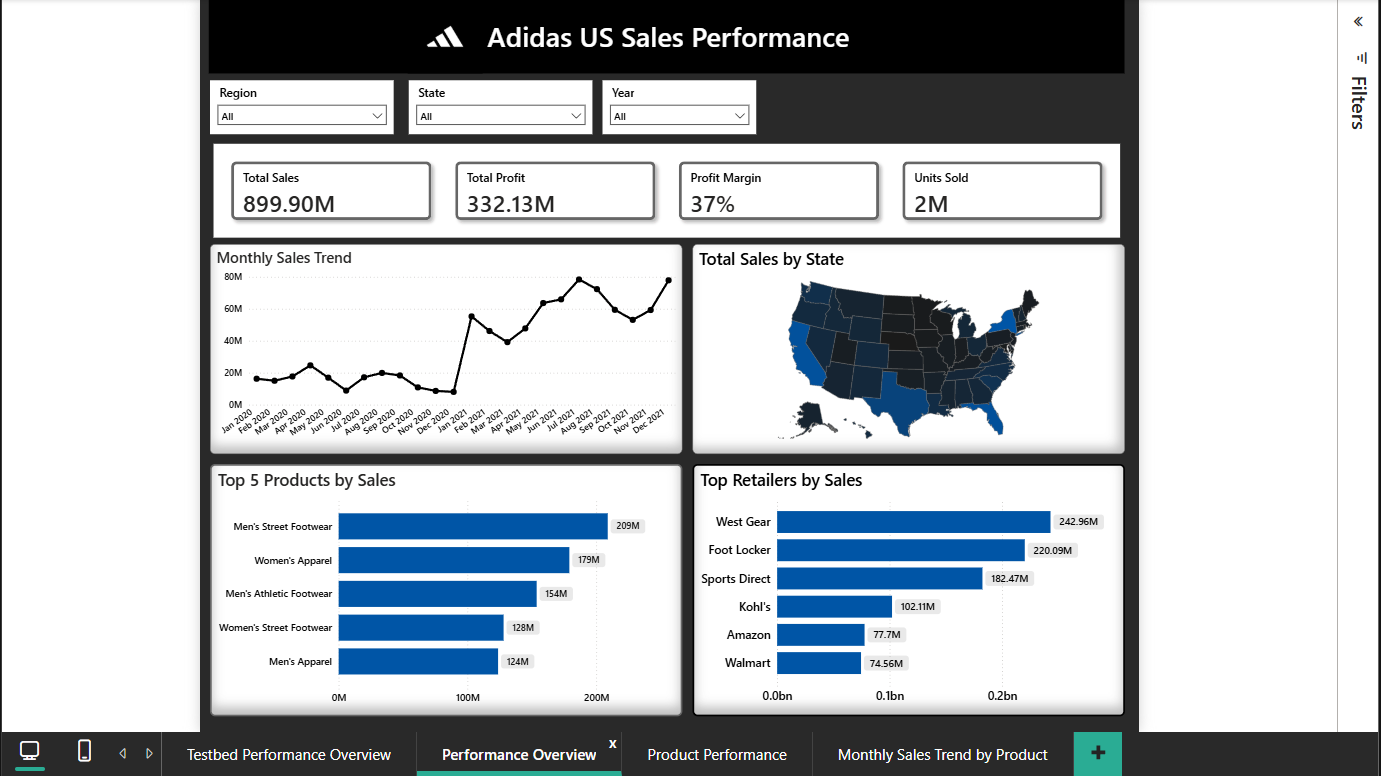

What the dashboard file says about the page in this screenshot:
{"tool":"powerbi","page":{"name":" Performance Overview","canvas":[1280,1000],"ordinal":1},"visuals":[{"type":"cardVisual","fields":{"Data":["Sales Calculation.Total Sales","Sales Calculation.Total Profit","Sales Calculation.Profit Margin%","Sales Calculation.Unit Sold"]},"box":[13.6,192.6,1249.2,138],"z":0},{"type":"shape","box":[12.7,0,1248.5,101.5],"z":1000},{"type":"textbox","box":[373.3,19.9,530.9,61.6],"z":2000},{"type":"image","box":[132.3,0,402.3,101.5],"z":3000},{"type":"lineChart","title":"Monthly Sales Trend","fields":{"Category":["Date Table.Month Year"],"Y":["Sales Calculation.Total Sales"]},"box":[13.6,334,644.2,286.3],"z":4000},{"type":"shapeMap","title":"Total Sales by State","fields":{"Category":["Table 1 (Data Sales Adidas).State"],"Value":["Sales Calculation.Total Sales"]},"box":[671.4,334,589.6,286.3],"z":5000},{"type":"clusteredBarChart","title":"Top 5 Products by Sales","fields":{"Category":["Table 1 (Data Sales Adidas).Product"],"Y":["Sales Calculation.Total Sales"]},"box":[13.6,634,644.2,344.2],"z":6000},{"type":"clusteredBarChart","title":"Top Retailers by Sales","fields":{"Category":["Table 1 (Data Sales Adidas).Retailer"],"Y":["Sales Calculation.Total Sales"]},"box":[671.4,634,589.6,344.2],"z":7000},{"type":"slicer","fields":{"Values":["Date Table.Year"]},"box":[548.7,110.8,209.6,73.3],"z":8000},{"type":"slicer","fields":{"Values":["Table 1 (Data Sales Adidas).Region"]},"box":[13.6,110.8,250.5,73.3],"z":9000},{"type":"slicer","fields":{"Values":["Table 1 (Data Sales Adidas).State"]},"box":[284.6,110.8,250.5,73.3],"z":10000}]}

Visuals, with their boxes on the page's 1280x1000 design canvas (x1, y1, x2, y2). These are canvas units, not pixel positions in the 1381x776 screenshot, which may show the page scaled, cropped or inside an application window:
cardVisual - Sales Calculation.Total Sales x Sales Calculation.Total Profit: 14 193 1263 331
shape: 13 0 1261 102
textbox: 373 20 904 82
image: 132 0 535 102
"Monthly Sales Trend" lineChart: 14 334 658 620
"Total Sales by State" shapeMap: 671 334 1261 620
"Top 5 Products by Sales" clusteredBarChart: 14 634 658 978
"Top Retailers by Sales" clusteredBarChart: 671 634 1261 978
slicer - Date Table.Year: 549 111 758 184
slicer - Table 1 (Data Sales Adidas).Region: 14 111 264 184
slicer - Table 1 (Data Sales Adidas).State: 285 111 535 184
